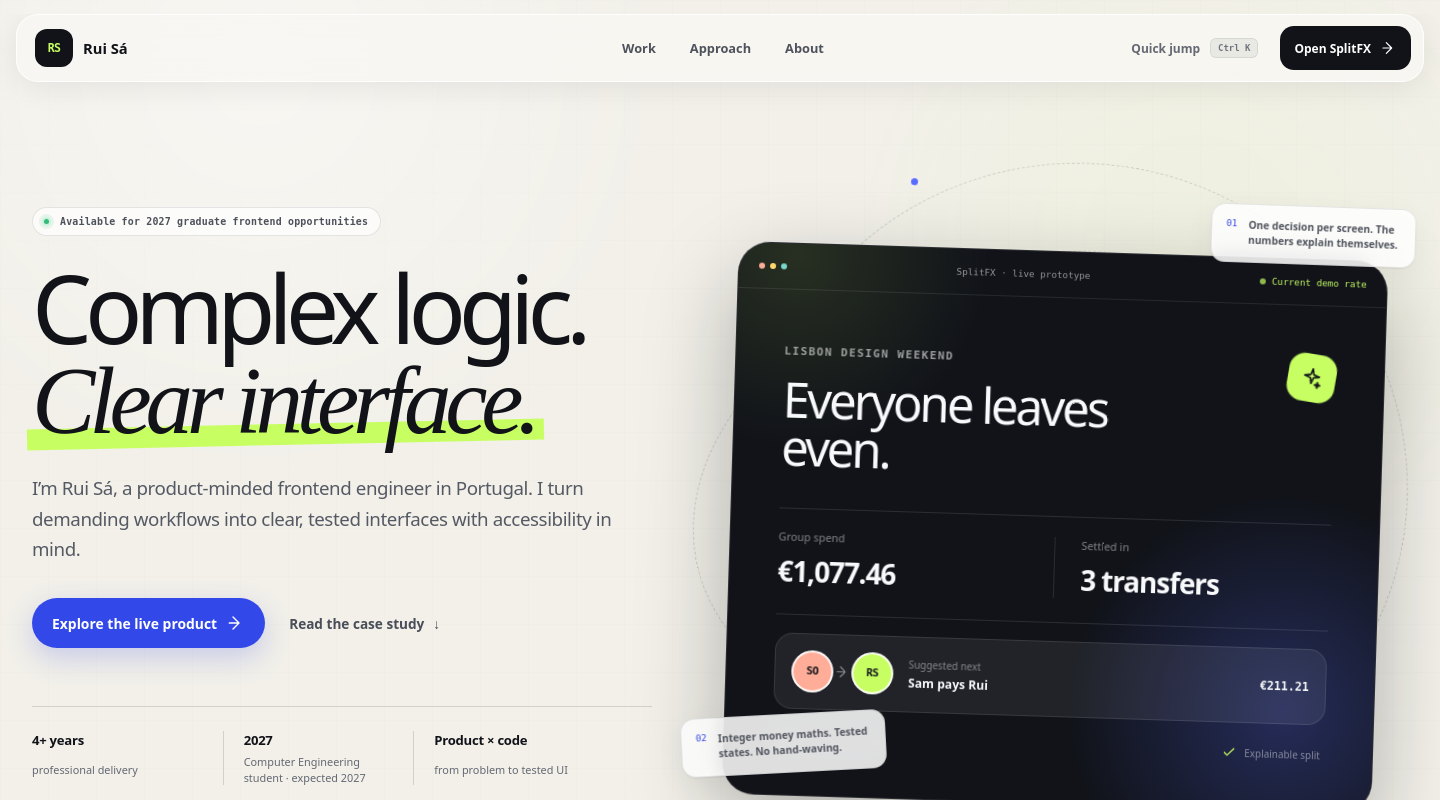
Rui Sá frontend portfolio › takes a recruiter from the story to the working SplitFX product
The width and height of the screenshot is (1440, 800).
Check: the heading "Complex logic. Clear interface." is shown, box x1=32 y1=266 x2=652 y2=444
Step 1. Click the button "Explore the live product" → (149, 623), box x1=32 y1=598 x2=265 y2=648
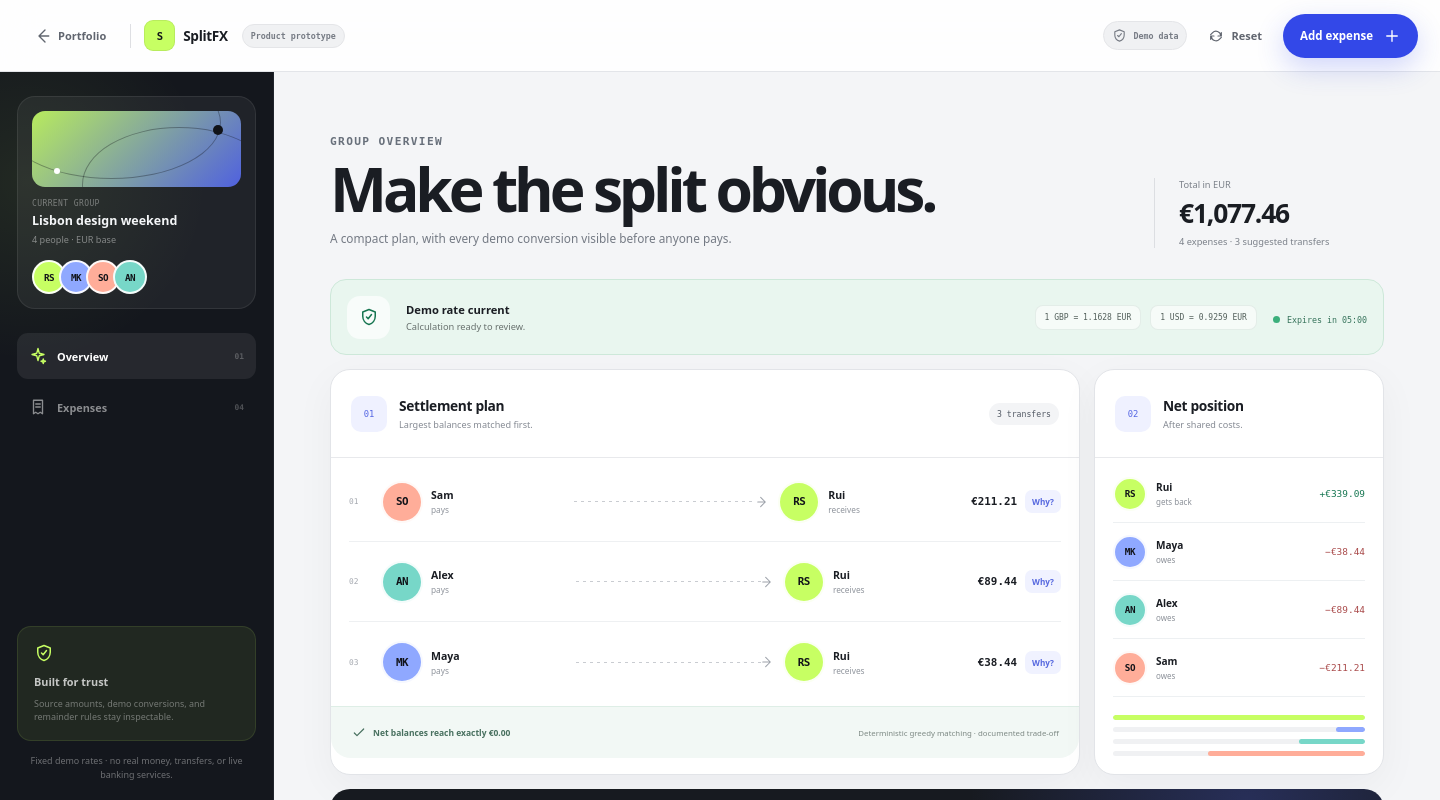
Check: the element with test id "splitfx-lab" is shown
Check: the heading "Make the split obvious." is shown, box x1=330 y1=160 x2=934 y2=218
Check: the text "Demo rate current" is shown, box x1=406 y1=302 x2=510 y2=316
